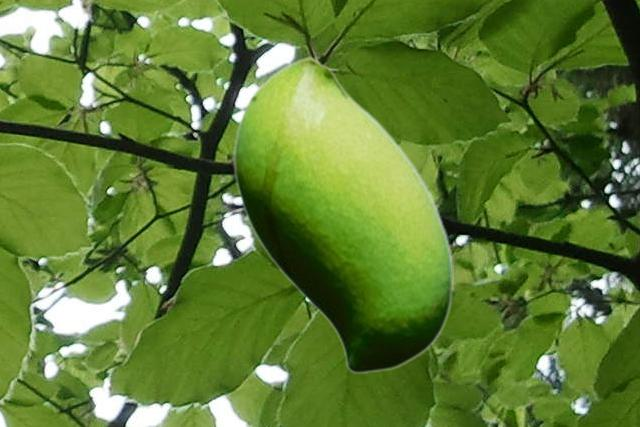green_mango: (232, 55, 452, 373)
